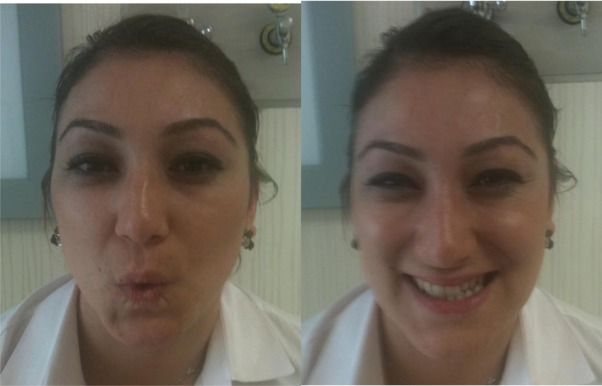stroke: (52, 92, 248, 338)
